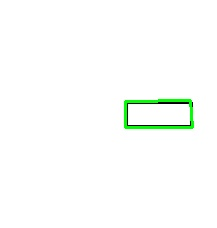line_segment: (124, 100, 194, 129)
